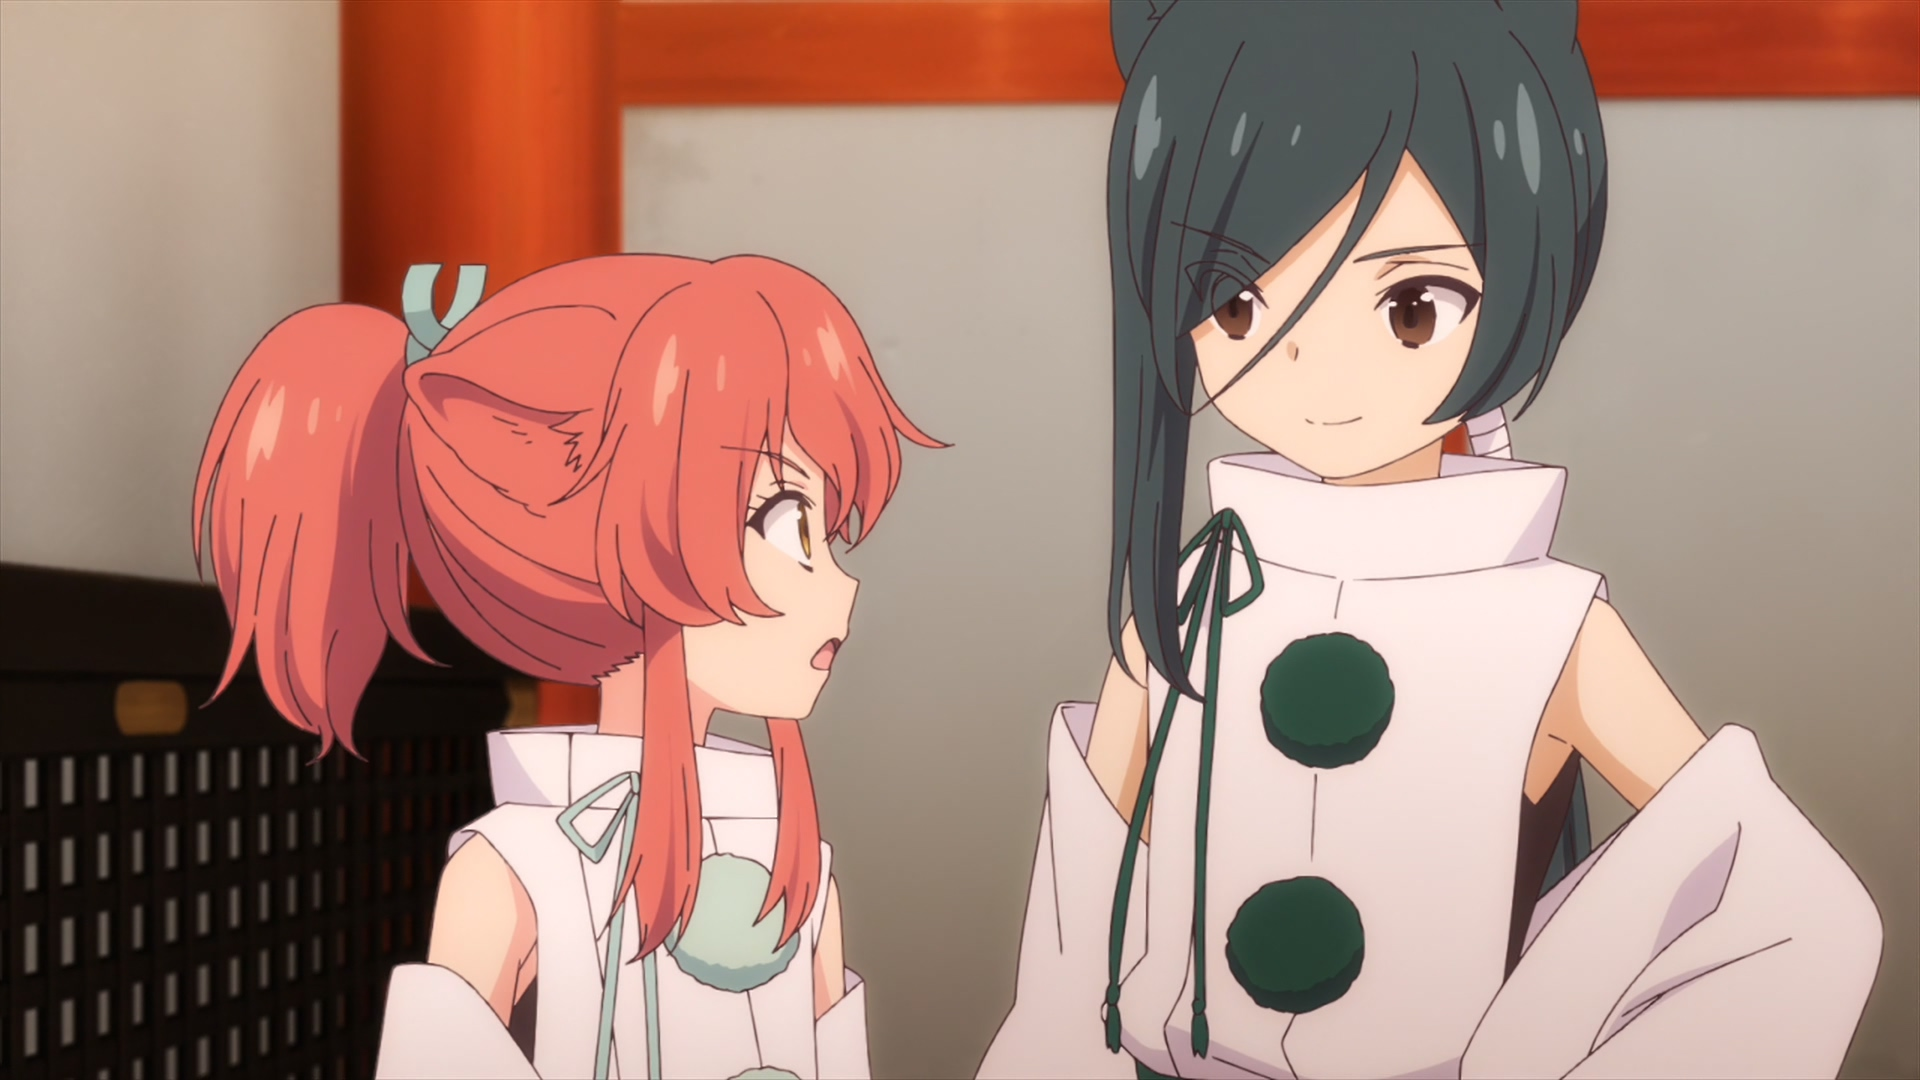其他: (976, 1, 1882, 1080)
椿: (193, 253, 952, 1080)
